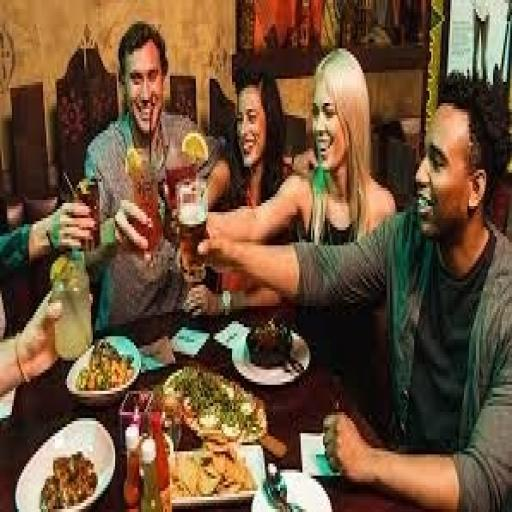eating: (194, 64, 510, 506)
